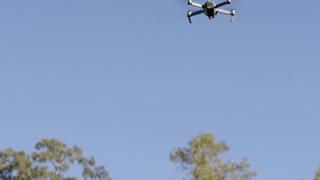UAV: (187, 0, 236, 24)
